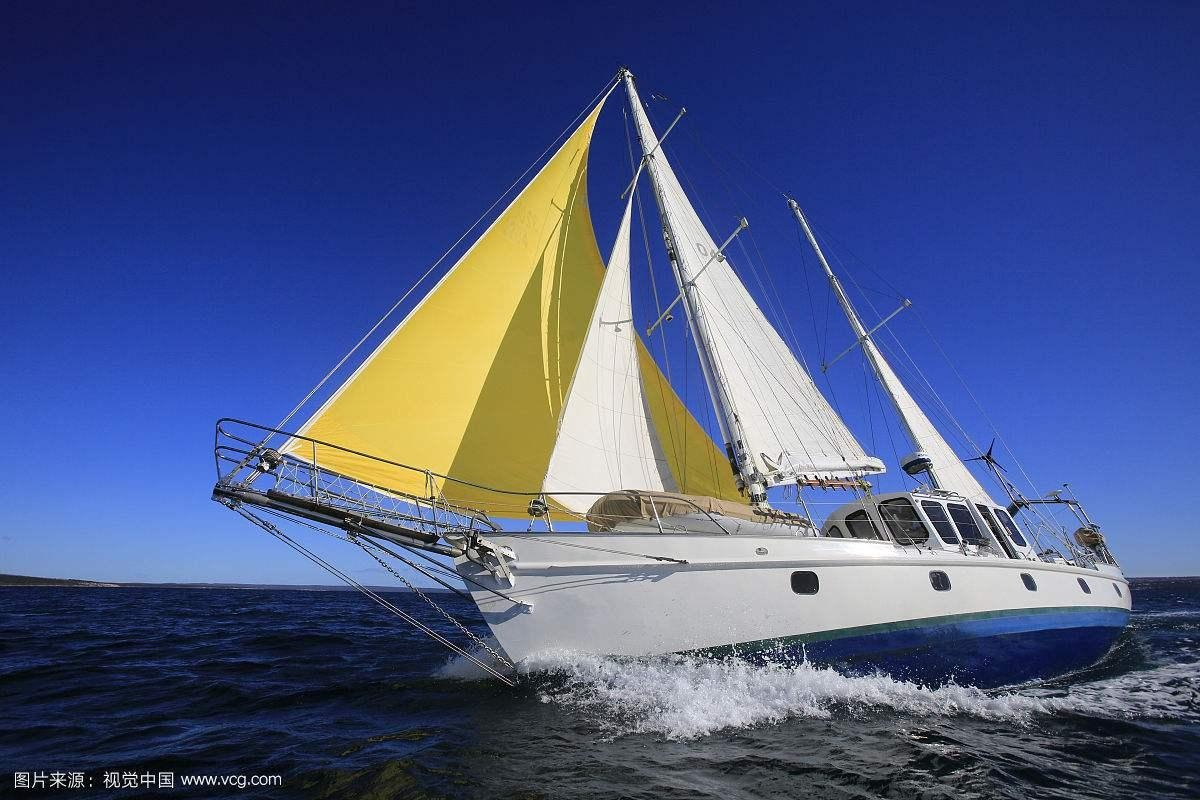fanchuan: (206, 55, 1140, 698)
